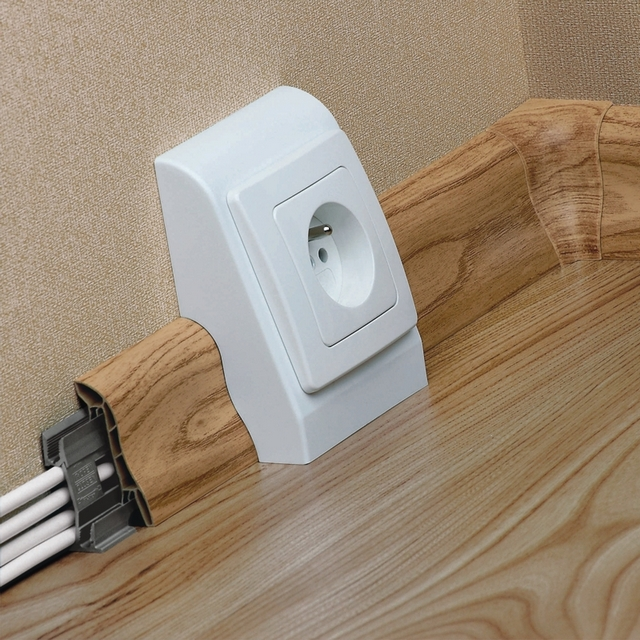raccoon: (307, 203, 375, 312)
